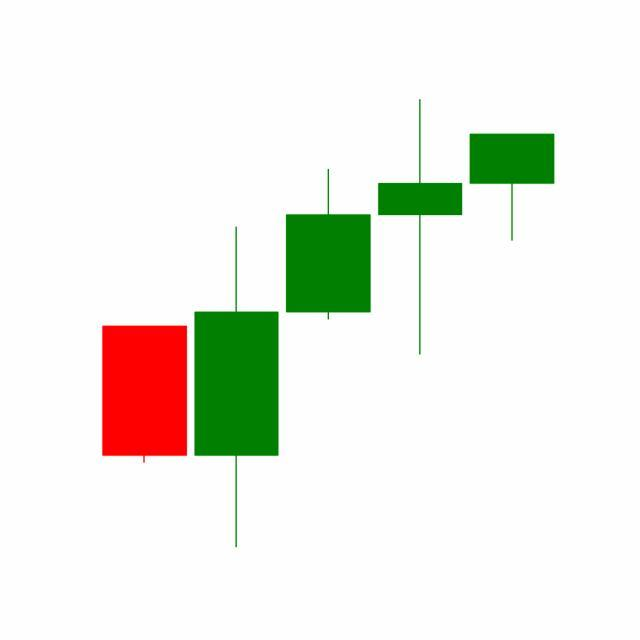Spinning Top: (374, 96, 468, 358)
